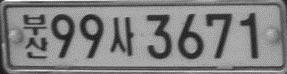1: (236, 12, 264, 59)
3: (145, 13, 172, 60)
6: (176, 12, 204, 59)
7: (204, 13, 233, 59)
9: (49, 12, 75, 58), (78, 13, 104, 58)
부산_V: (22, 13, 48, 59)
사: (108, 16, 135, 56)
